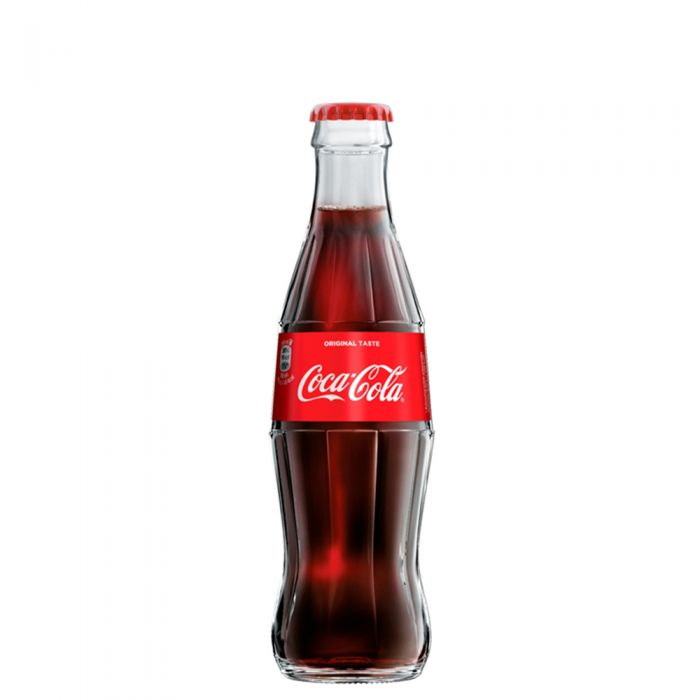Coca-Cola: (258, 102, 459, 694)
